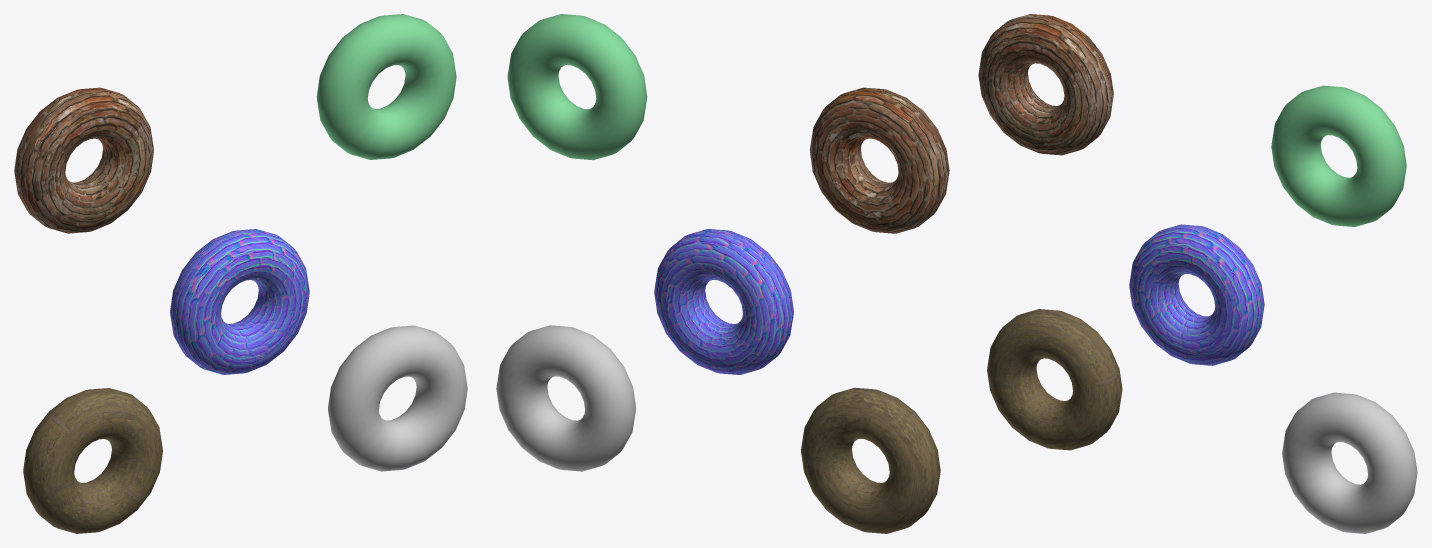
Rendered from Dornuts.fbx.
The picture shows the model from 3 angles, left to right: view 1: azimuth 30°, elevation 25°; view 2: azimuth 150°, elevation 25°; view 3: azimuth 330°, elevation 25°; orthographic projection. The views are drawn at different scales.
Parts seen in each view (by area): view 1: group1_pasted__pTorus1; view 2: group1_pasted__pTorus1; view 3: group1_pasted__pTorus1.
Boxes of the visible parts, x1,y1,x2,y2 form: group1_pasted__pTorus1: [14, 14, 467, 533]; group1_pasted__pTorus1: [496, 14, 949, 533]; group1_pasted__pTorus1: [978, 14, 1417, 533].
Size of the model in its own units: 10.06 by 9.76 by 1.01.
